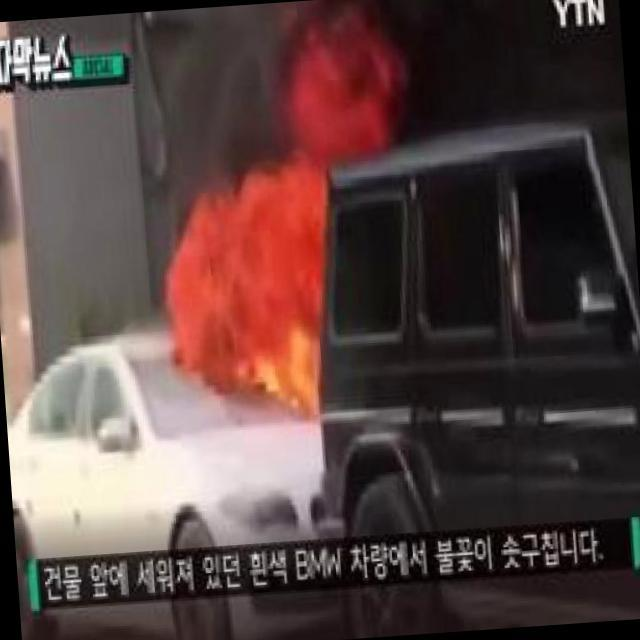Fire: (159, 93, 415, 406)
